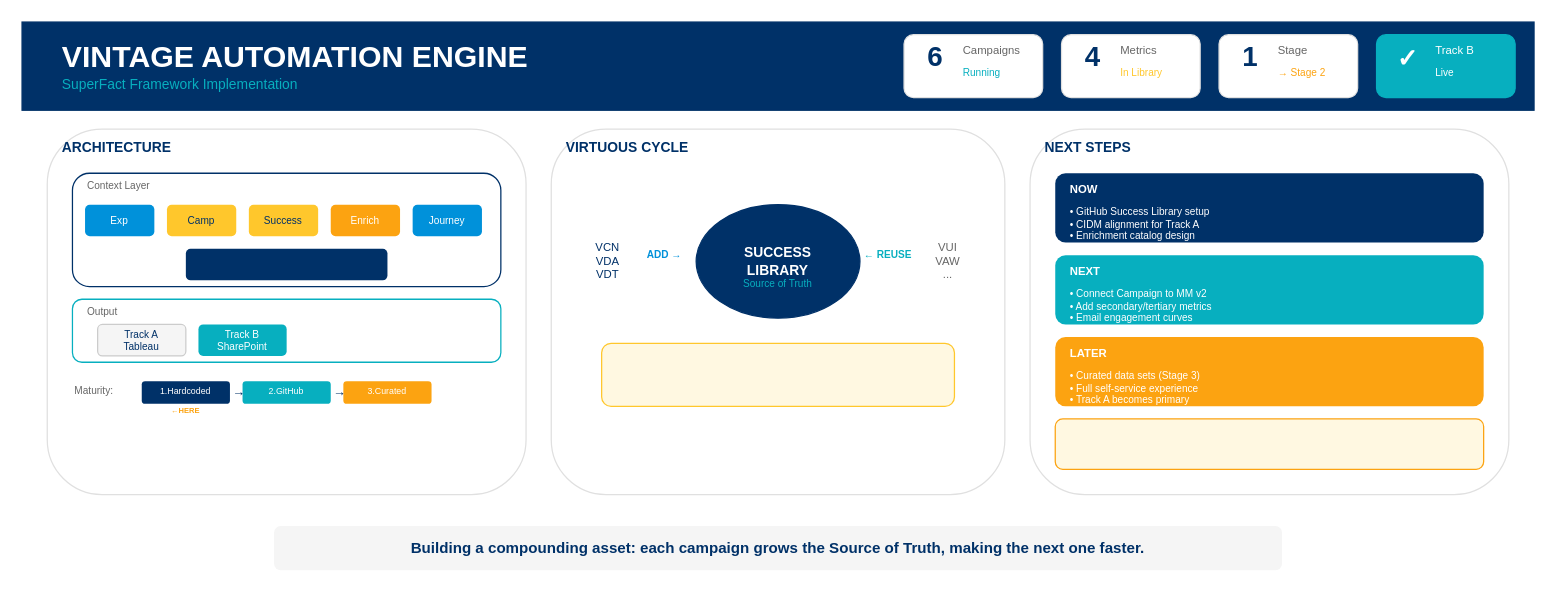
This 1556x592 diagram has some shape labels left out. The shapes that lost their labels are listed below. From the top down, each one's box as (x1, y1, x2, y2) in pixels, then its label:
(185, 248, 387, 280): Vintage Engine
(600, 342, 954, 406): Library grows → Next campaign faster Work compounds
(1054, 418, 1484, 469): DECISIONS: Refresh cadence • Metric priority • Platform
